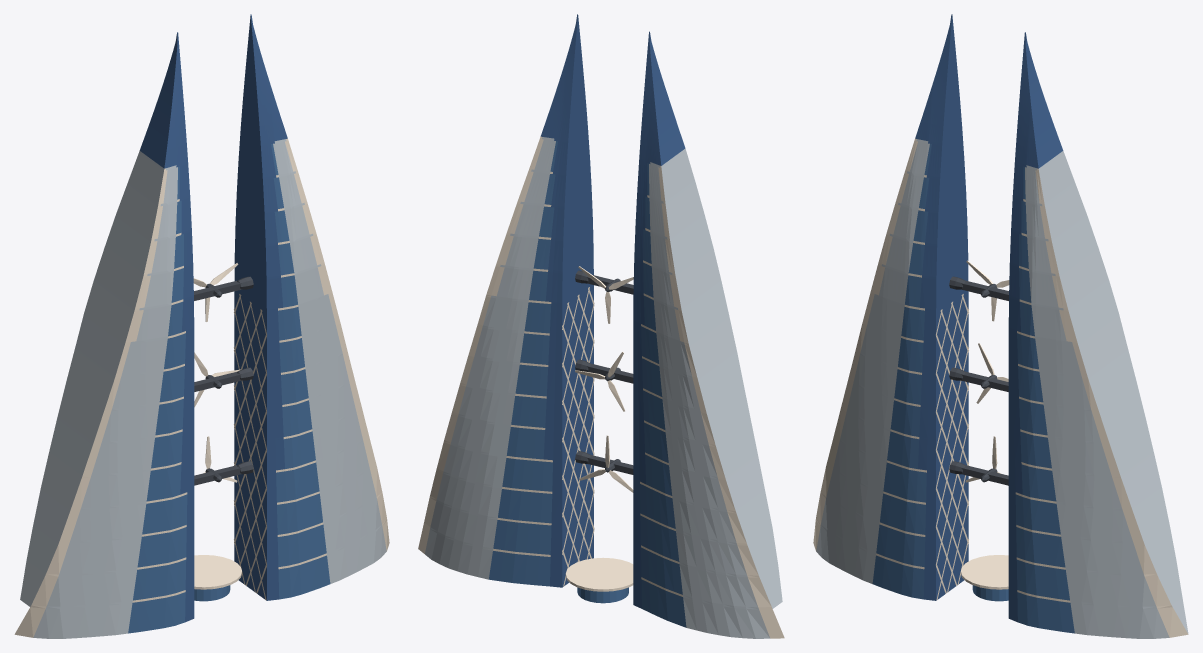
Rendered from manama-bahrain-world-trade-center.detail.glb.
3 renders of one model, left to right at view 1: azimuth 30°, elevation 25°; view 2: azimuth 150°, elevation 25°; view 3: azimuth 330°, elevation 25°, orthographic. The views are drawn at different scales.
Parts seen in each view (by area): view 1: Bahrain World Trade Center; view 2: Bahrain World Trade Center; view 3: Bahrain World Trade Center.
Part boxes in pixels (<box>): Bahrain World Trade Center: <box>14,14,389,638</box>; Bahrain World Trade Center: <box>418,14,784,638</box>; Bahrain World Trade Center: <box>813,14,1188,638</box>.
Size of the model in its own units: 164 by 240 by 36.86.
